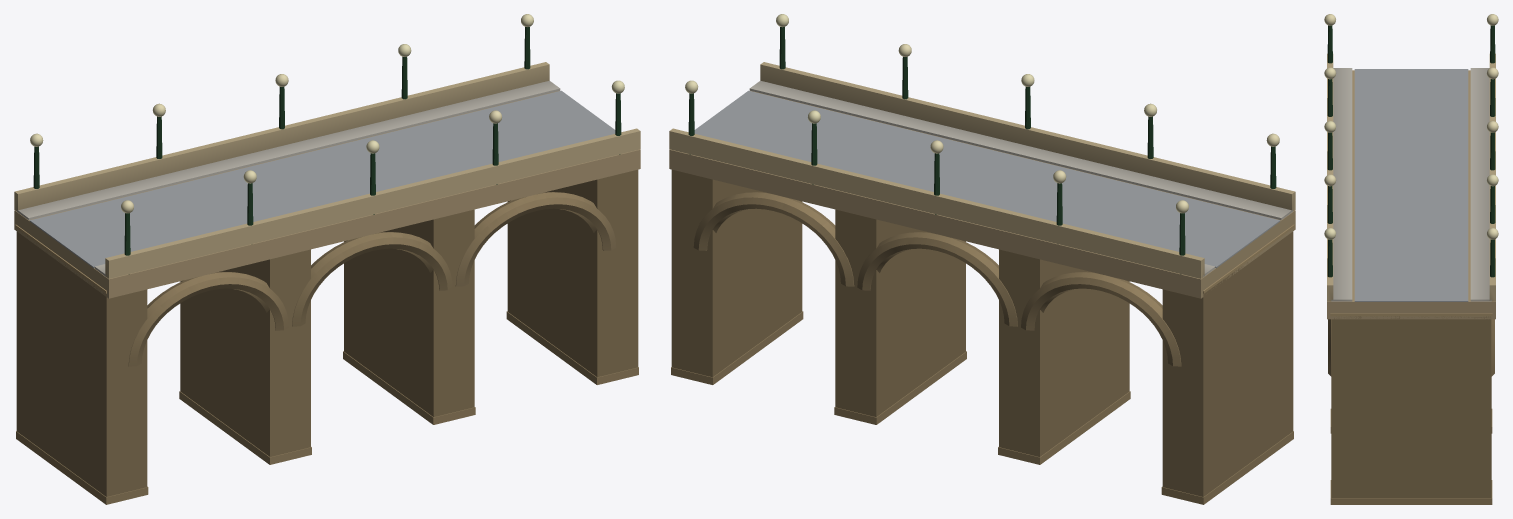
Rendered from br-princes.glb.
The picture shows the model from 3 angles, left to right: view 1: azimuth 30°, elevation 25°; view 2: azimuth 150°, elevation 25°; view 3: azimuth 270°, elevation 25°; orthographic projection. The views are drawn at different scales.
Bounding box in the file's own units: 26.1 × 13.98 × 8.26.
